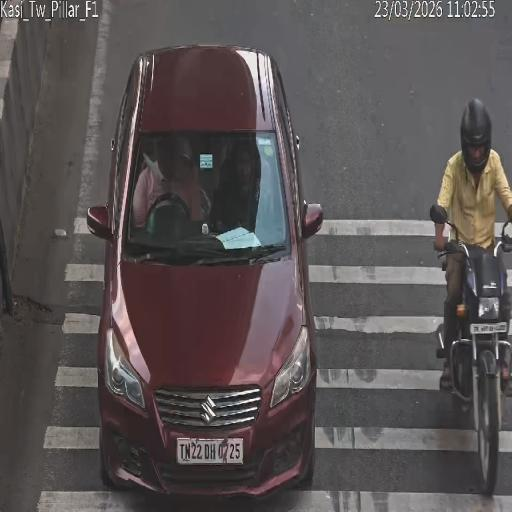person_with_seatbelt: (143, 150, 172, 212), (244, 156, 258, 227)
